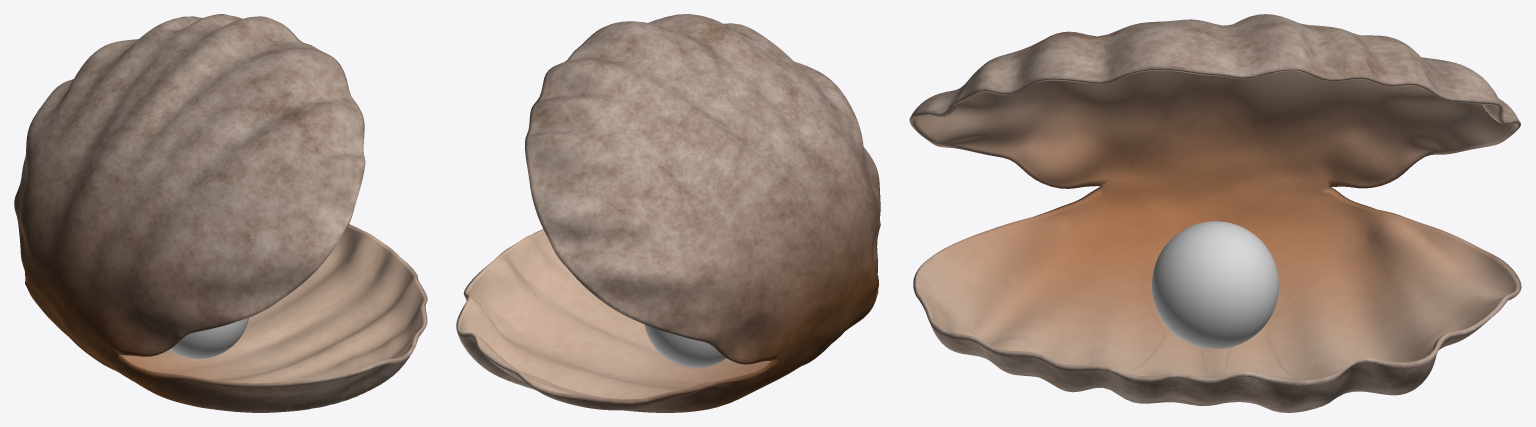
Rendered from Shell.fbx.
The picture shows the model from 3 angles, left to right: view 1: azimuth 30°, elevation 25°; view 2: azimuth 150°, elevation 25°; view 3: azimuth 270°, elevation 25°; orthographic projection. The views are drawn at different scales.
Parts seen in each view (by area): view 1: Cube.002, Sphere; view 2: Cube.002, Sphere; view 3: Cube.002, Sphere.
Boxes of the visible parts, x1,y1,x2,y2 form: Cube.002: [14, 14, 427, 412]; Sphere: [169, 318, 248, 358]; Cube.002: [456, 14, 880, 412]; Sphere: [644, 324, 726, 367]; Cube.002: [909, 14, 1521, 412]; Sphere: [1152, 221, 1279, 349].
Size of the model in its own units: 326 by 289 by 434.
